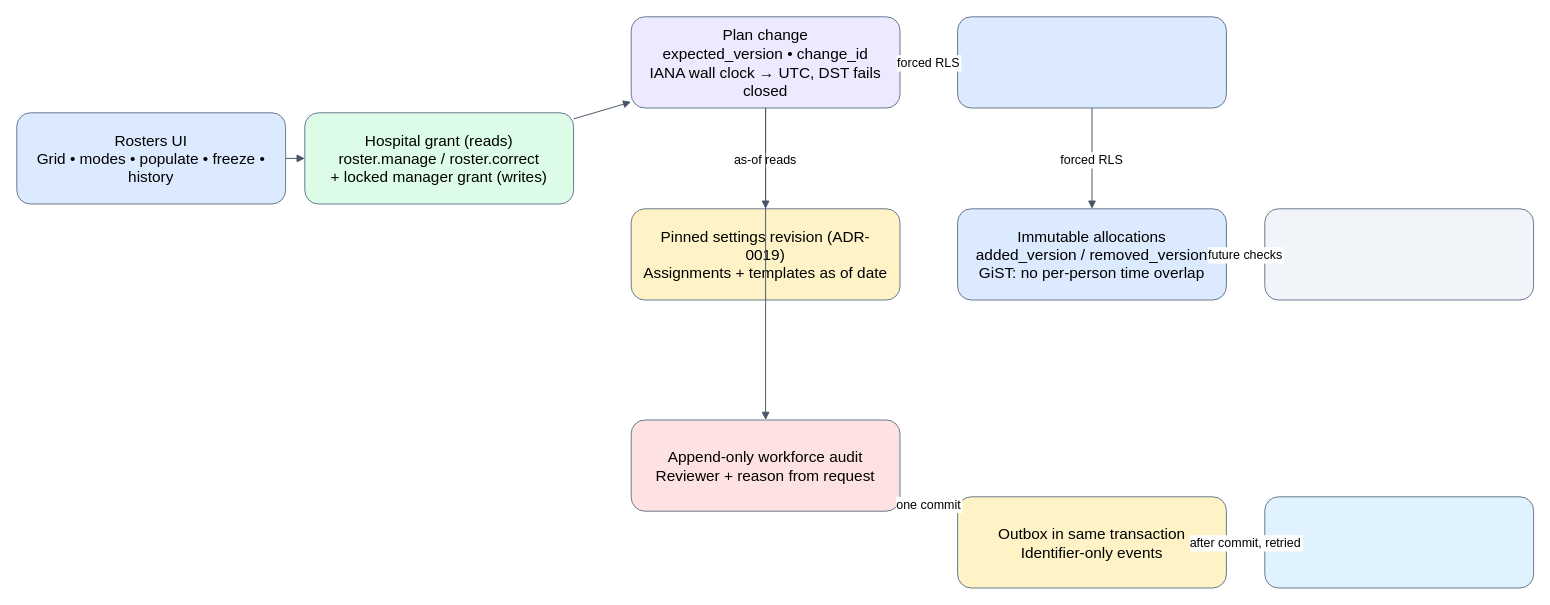
Image size: 1550x605. Some labels were removed from this diagram. The centre of each missing label's shape, as x and y in pixels:
"NATS JetStream roster_changed.v1" goes at point 1399,542.
"Open on #1036 Leave conflicts (#1037) Credential conflicts (#1108)" goes at point 1399,254.
"Roster head + revisions draft / frozen / discarded GiST: no overlapping periods" goes at point 1091,62.
